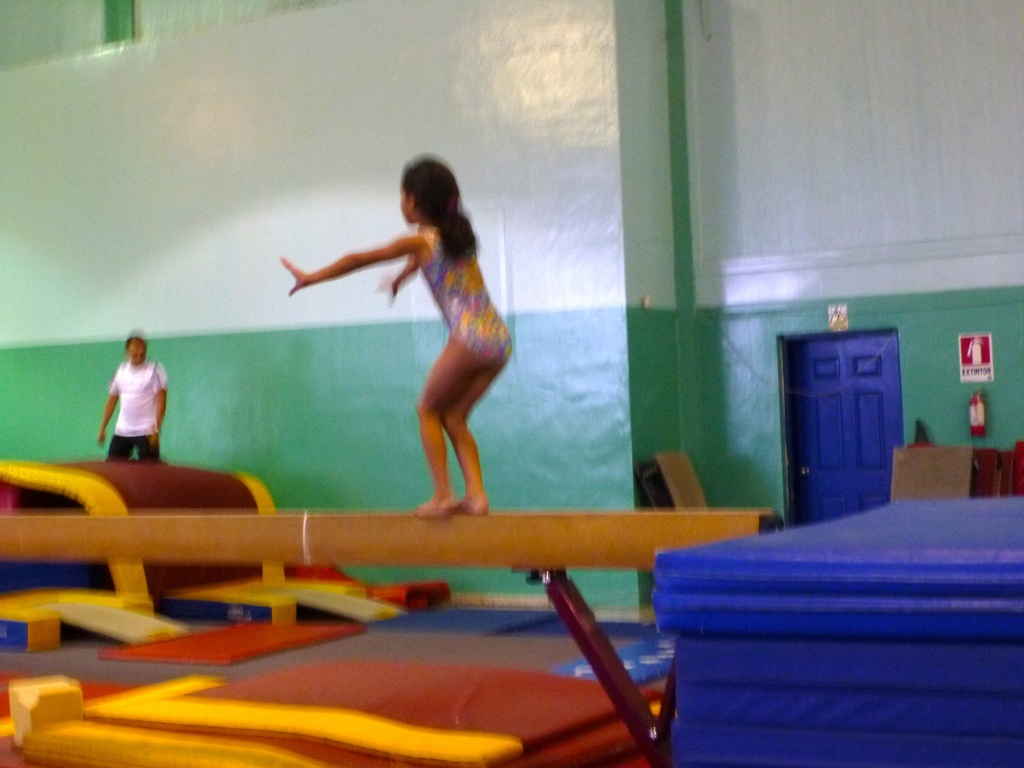Person: (279, 151, 512, 517), (97, 336, 169, 462)
